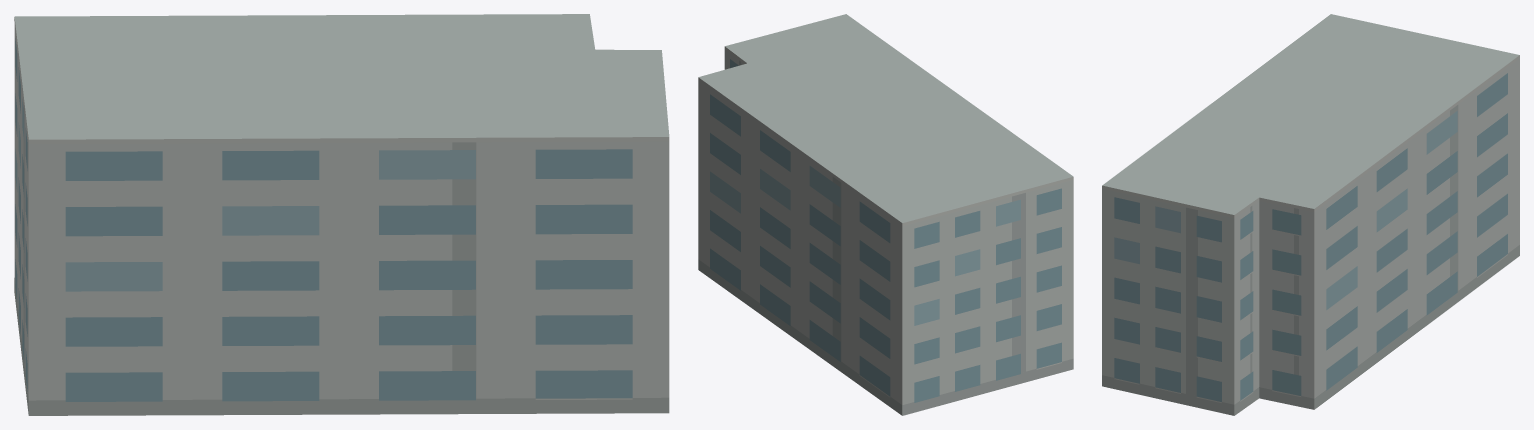
Rendered from survey-upis-32764834.glb.
The picture shows the model from 3 angles, left to right: view 1: azimuth 30°, elevation 25°; view 2: azimuth 150°, elevation 25°; view 3: azimuth 270°, elevation 25°; orthographic projection. The views are drawn at different scales.
Visible parts, largest first — view 1: survey-upis-32764834.tmp; view 2: survey-upis-32764834.tmp; view 3: survey-upis-32764834.tmp.
Part boxes in pixels (left/top/right/bottom): survey-upis-32764834.tmp: left=14, top=14, right=669, bottom=415; survey-upis-32764834.tmp: left=698, top=14, right=1073, bottom=415; survey-upis-32764834.tmp: left=1102, top=14, right=1519, bottom=415.
Size of the model in its own units: 32.75 by 15.25 by 28.75.
